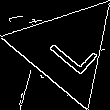L_NW: (35, 21, 96, 77)
